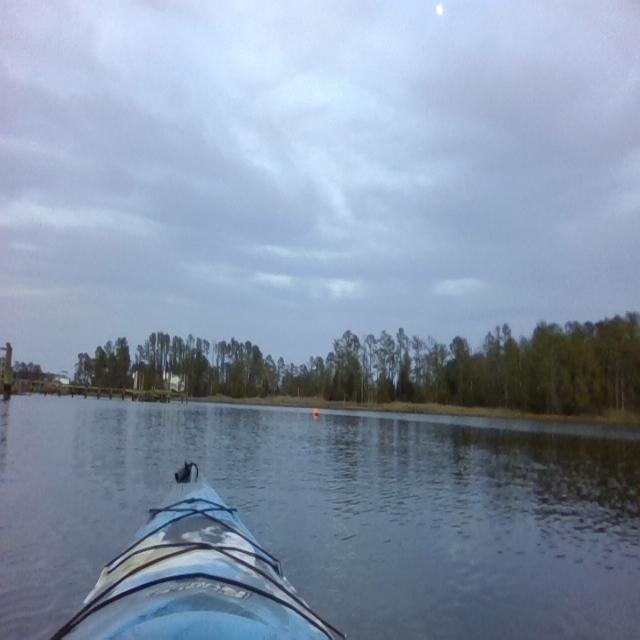Buoy: (312, 405, 320, 418)
